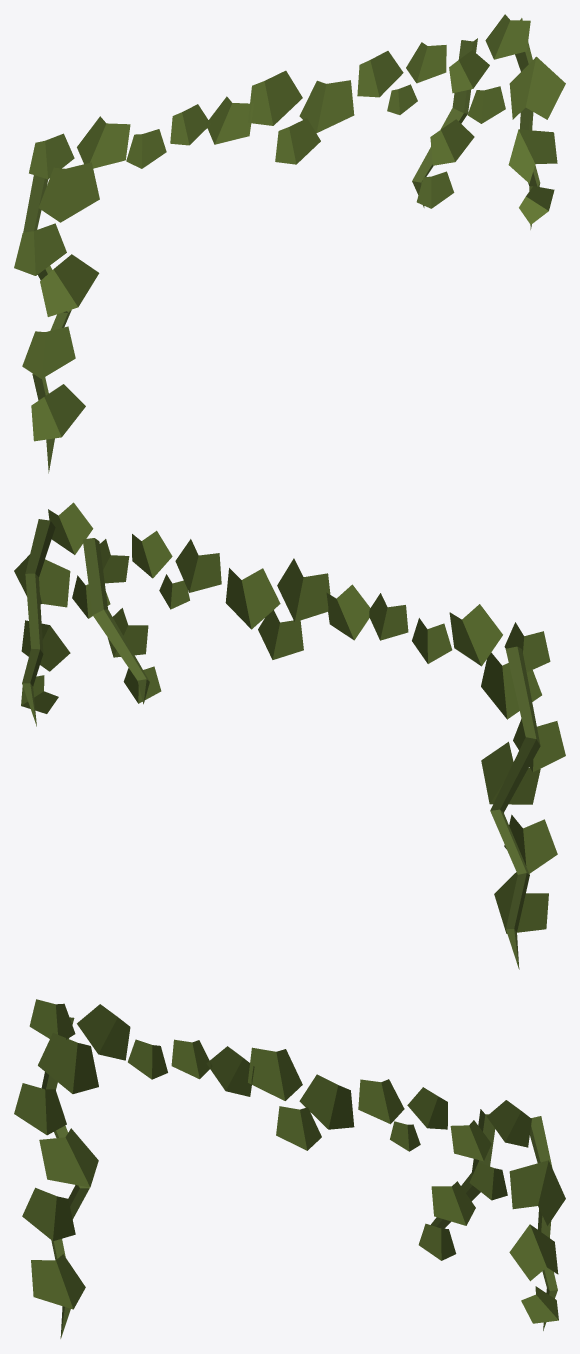
File: Creepers_2.fbx
The picture shows the model from 3 angles, top to bottom: view 1: azimuth 30°, elevation 25°; view 2: azimuth 150°, elevation 25°; view 3: azimuth 330°, elevation 25°; orthographic projection.
Parts seen in each view (by area): view 1: Creepers_2; view 2: Creepers_2; view 3: Creepers_2.
Boxes of the visible parts, x1,y1,x2,y2 form: Creepers_2: (14, 14, 565, 473); Creepers_2: (14, 502, 565, 969); Creepers_2: (14, 999, 565, 1338).
Size of the model in its own units: 284 by 174 by 8.82.
